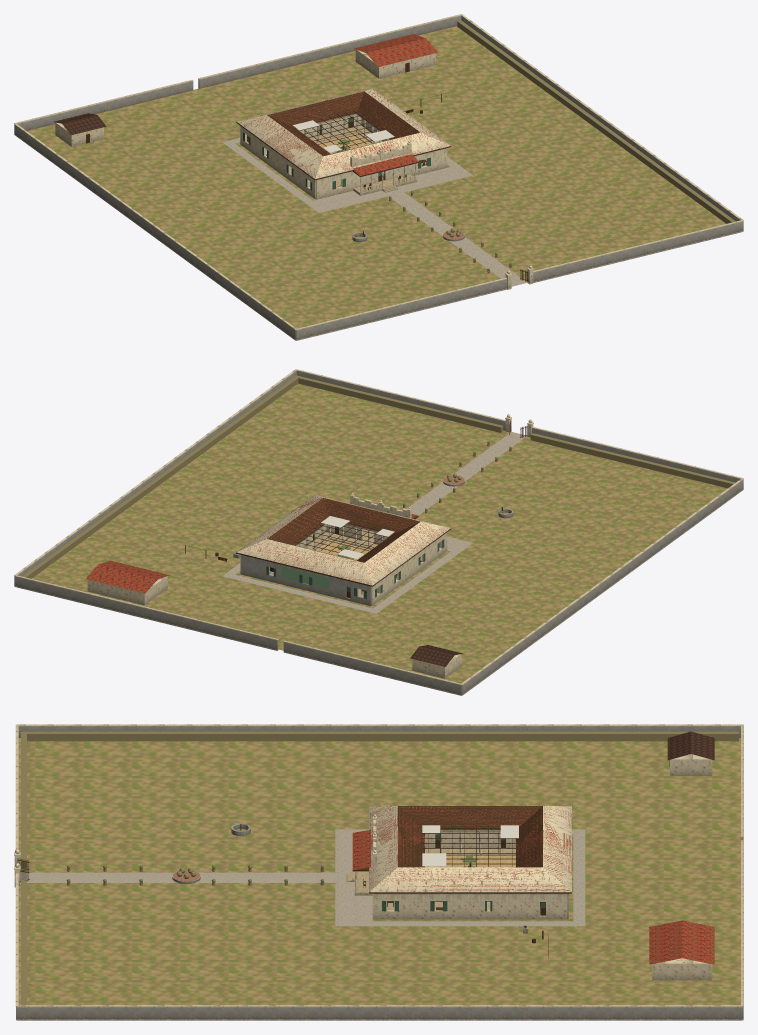
The model's file is lodge.82dc650811.glb.
3 renders of one model, top to bottom at view 1: azimuth 30°, elevation 25°; view 2: azimuth 150°, elevation 25°; view 3: azimuth 270°, elevation 25°, orthographic. The views are drawn at different scales.
Visible parts, largest first — view 1: grounds, house; view 2: grounds, house; view 3: grounds, house.
Boxes of the visible parts, x1,y1,x2,y2 form: grounds: [14, 14, 743, 340]; house: [236, 88, 451, 199]; grounds: [14, 369, 743, 695]; house: [236, 493, 451, 606]; grounds: [14, 724, 743, 1020]; house: [347, 806, 571, 919].
Size of what is drawn, in the model's own units: 111 by 14.34 by 121.
Materials: 25 (14 with a texture image).
